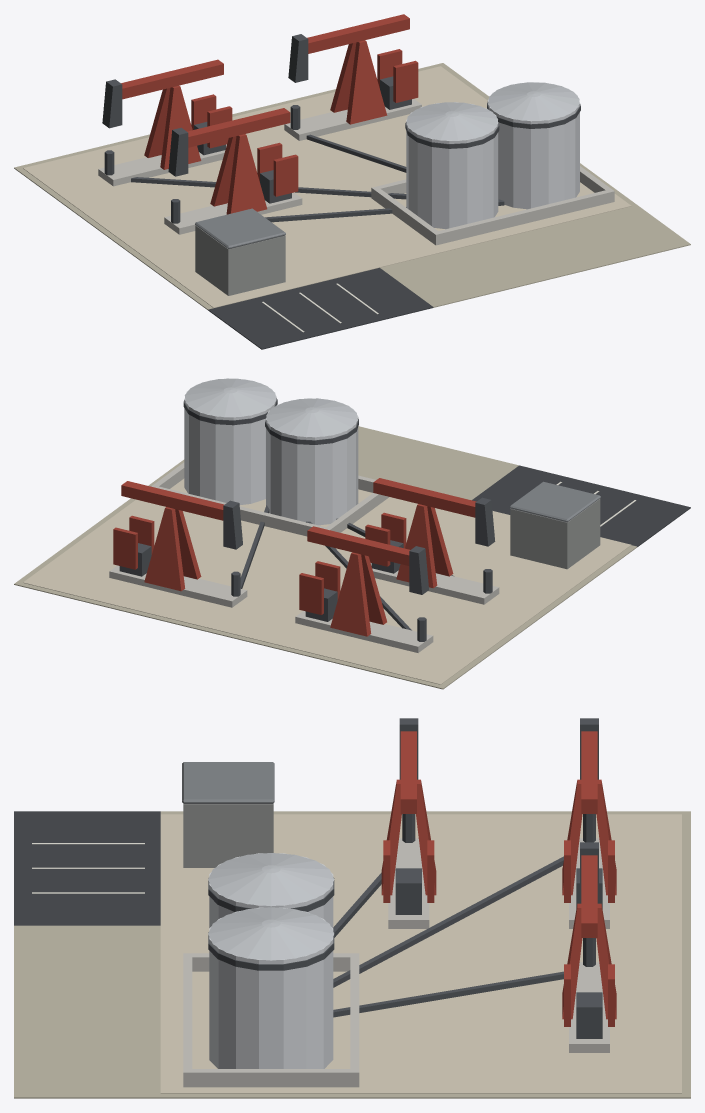
Rendered from oilwell.glb.
3 views of the same model, one above another, from view 1: azimuth 30°, elevation 25°; view 2: azimuth 150°, elevation 25°; view 3: azimuth 270°, elevation 25° (orthographic). The views are drawn at different scales.
Visible parts, largest first — view 1: oilwell; view 2: oilwell; view 3: oilwell.
Boxes of the visible parts, left/top/right/bottom form: oilwell: left=14, top=14, right=690, bottom=349; oilwell: left=14, top=378, right=690, bottom=689; oilwell: left=14, top=718, right=690, bottom=1098.
Size of the model in its own units: 30 by 6.53 by 30.
